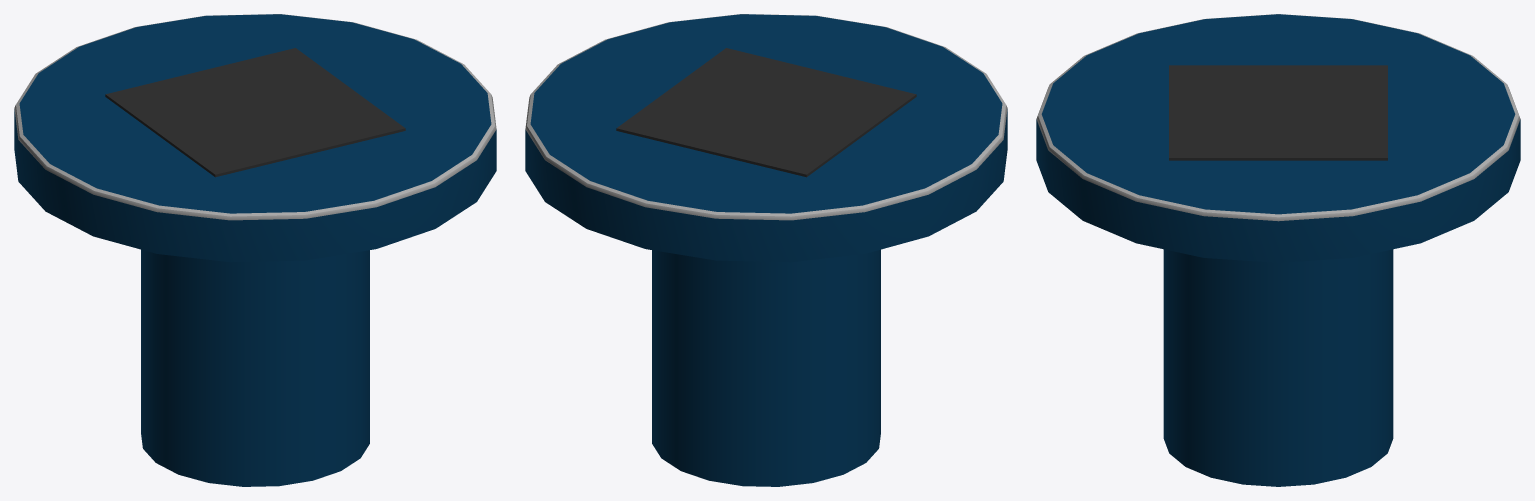
File: Table.fbx
3 renders of one model, left to right at view 1: azimuth 30°, elevation 25°; view 2: azimuth 150°, elevation 25°; view 3: azimuth 270°, elevation 25°, orthographic.
Visible parts, largest first — view 1: table, chess; view 2: table, chess; view 3: table, chess.
Boxes of the visible parts, <box> form: table: <box>14,14,496,486</box>; chess: <box>105,48,405,177</box>; table: <box>525,14,1007,486</box>; chess: <box>616,48,916,177</box>; table: <box>1036,14,1520,486</box>; chess: <box>1169,65,1387,160</box>.
Size of the model in its own units: 133 by 98.7 by 133.
